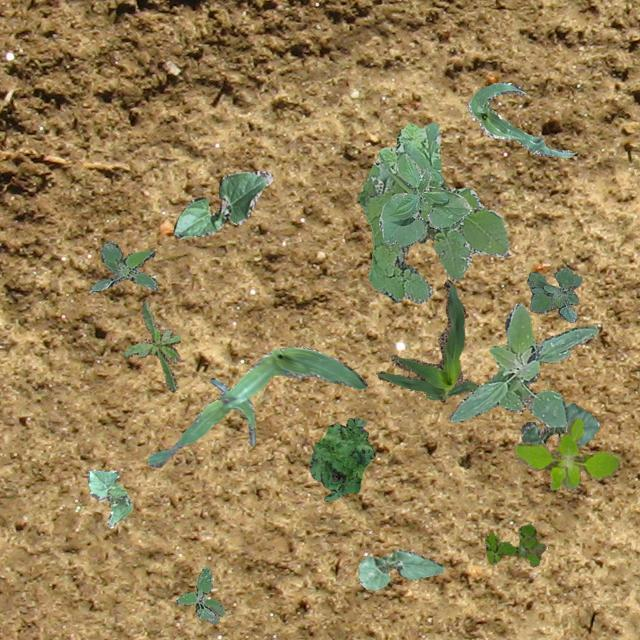crop: (377, 278, 478, 402), (146, 376, 255, 466), (218, 346, 366, 408), (378, 152, 470, 245), (466, 80, 574, 156), (172, 170, 272, 238), (520, 402, 598, 446), (358, 548, 442, 588), (86, 468, 130, 526)
weed: (356, 121, 509, 302), (448, 302, 598, 426), (514, 416, 618, 488), (307, 416, 373, 501), (122, 299, 180, 392), (88, 240, 156, 292), (526, 268, 580, 322), (174, 566, 224, 622), (484, 524, 544, 566)
